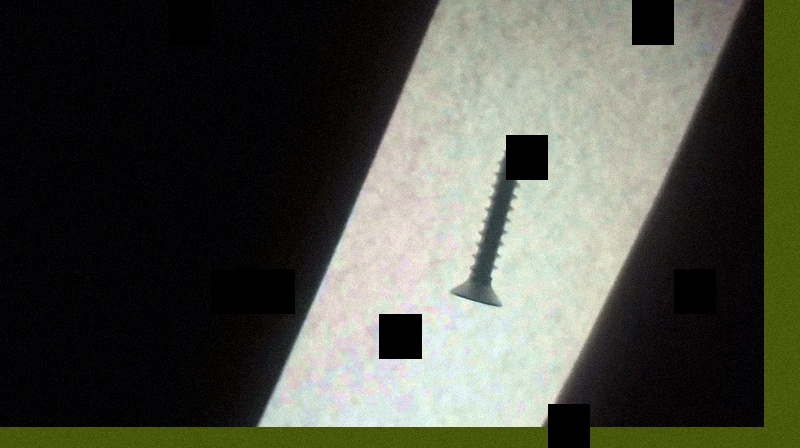S001: (443, 130, 528, 311)
